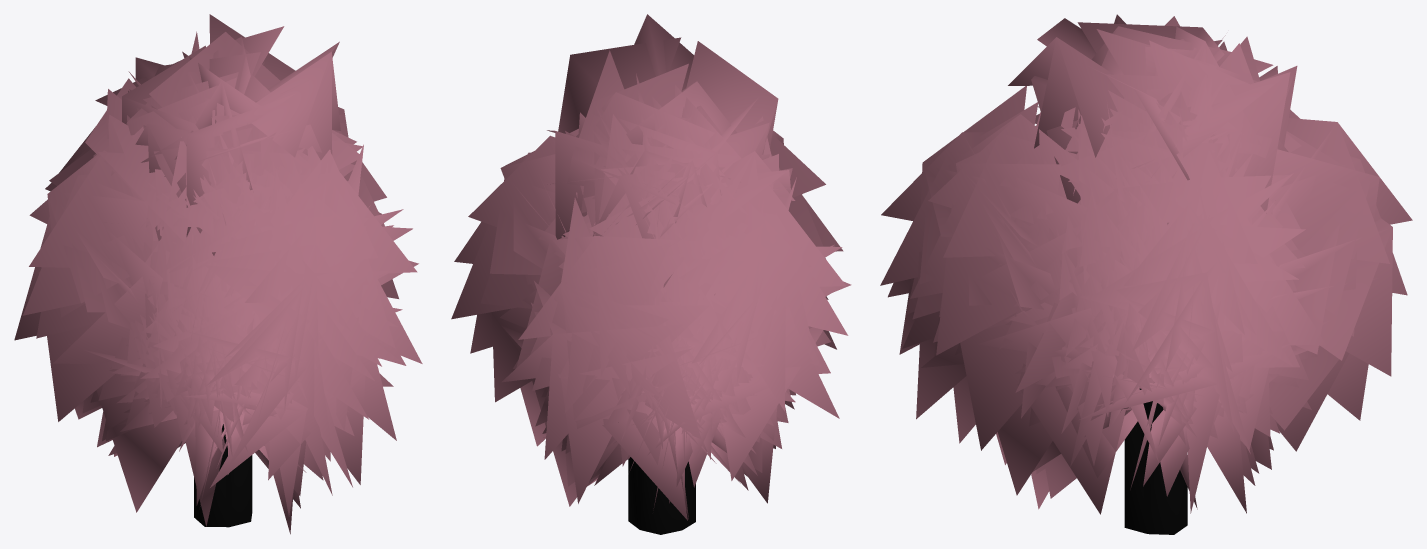
Rendered from MESH_Bush_01.fbx.
3 renders of one model, left to right at view 1: azimuth 30°, elevation 25°; view 2: azimuth 150°, elevation 25°; view 3: azimuth 270°, elevation 25°, orthographic. The views are drawn at different scales.
Visible parts, largest first — view 1: Mesh_BushLOD0; view 2: Mesh_BushLOD0; view 3: Mesh_BushLOD0.
Boxes of the visible parts, x1=… form: Mesh_BushLOD0: x1=14, y1=14, x2=422, y2=534; Mesh_BushLOD0: x1=451, y1=14, x2=851, y2=534; Mesh_BushLOD0: x1=880, y1=14, x2=1412, y2=534.
Size of what is drawn, in the model's own units: 494 by 608 by 568.
